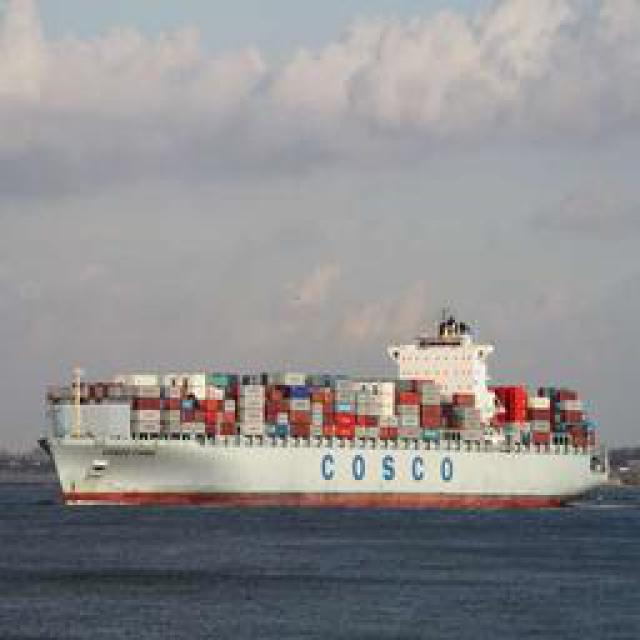Ship: (34, 301, 624, 511)
